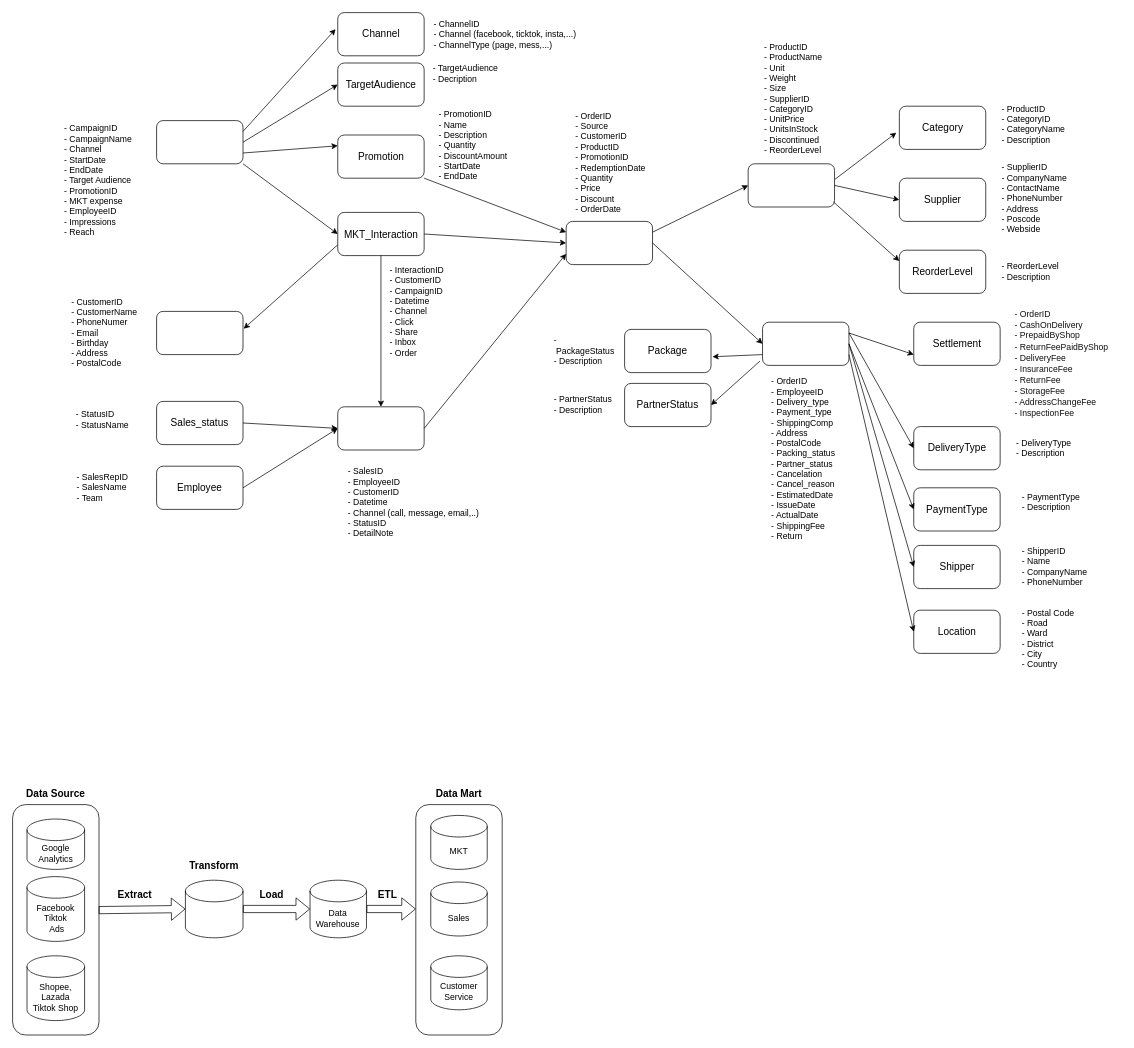
The diagram is 1134 pixels wide and 1048 high, and some of its shapes have lost their labels. The centre of each missing label's shape, as x and y in pixels:
Customer: pixel 199 333
Data Modelling: pixel 214 908
Delivery: pixel 805 343
Order: pixel 609 243
Product/Service: pixel 791 185
Sales_Interaction: pixel 380 428
Social_Campagin: pixel 199 142
